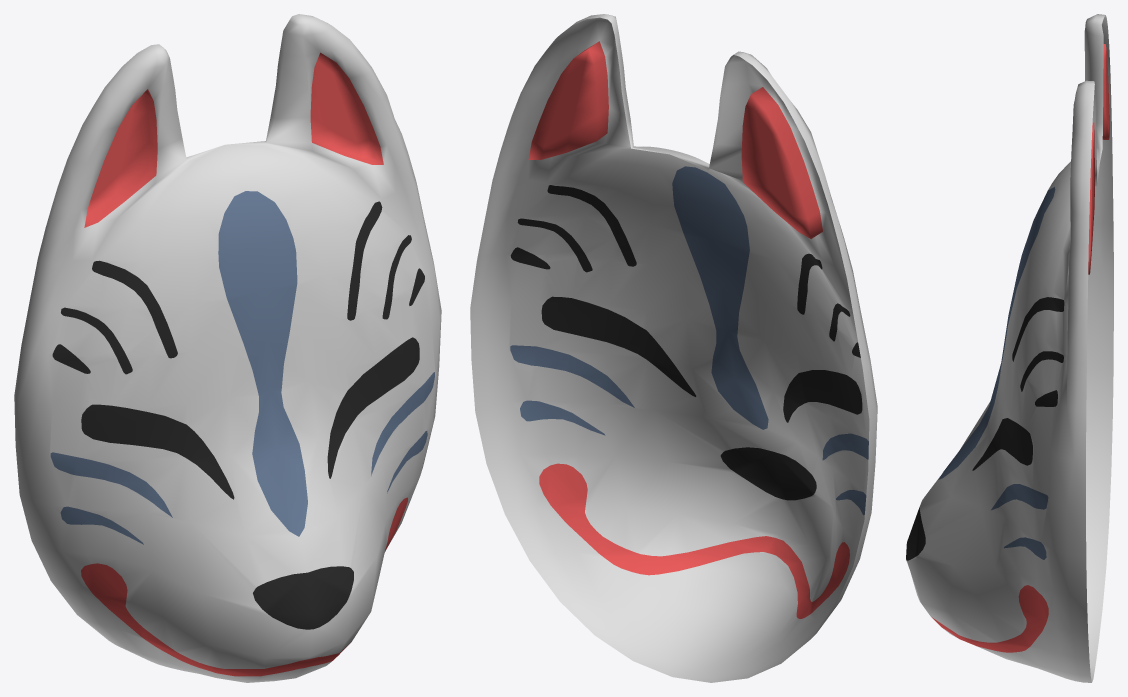
Rendered from foxmask.glb.
The picture shows the model from 3 angles, left to right: view 1: azimuth 30°, elevation 25°; view 2: azimuth 150°, elevation 25°; view 3: azimuth 270°, elevation 25°; orthographic projection. The views are drawn at different scales.
Parts seen in each view (by area): view 1: Sphere; view 2: Sphere; view 3: Sphere.
Boxes of the visible parts, left/top/right/bottom form: Sphere: left=14, top=14, right=441, bottom=682; Sphere: left=470, top=14, right=877, bottom=682; Sphere: left=906, top=14, right=1113, bottom=682.
Bounding box in the file's own units: 1.82 × 2.69 × 0.8226.
